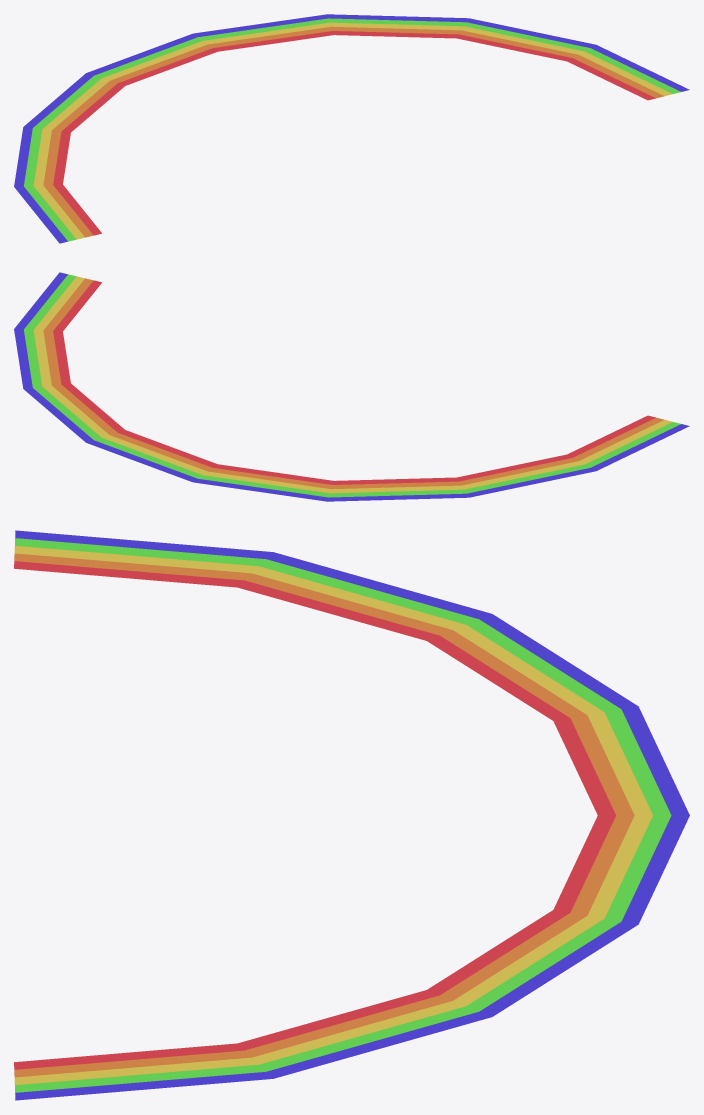
File: rainbow.fbx
The picture shows the model from 3 angles, top to bottom: view 1: azimuth 30°, elevation 25°; view 2: azimuth 150°, elevation 25°; view 3: azimuth 270°, elevation 25°; orthographic projection. The views are drawn at different scales.
Visible parts, largest first — view 1: Circle; view 2: Circle; view 3: Circle.
Boxes of the visible parts, x1,y1,x2,y2 form: Circle: [14, 14, 689, 243]; Circle: [14, 272, 689, 501]; Circle: [14, 530, 689, 1100].
Size of the model in its own units: 980 by 0 by 491.
